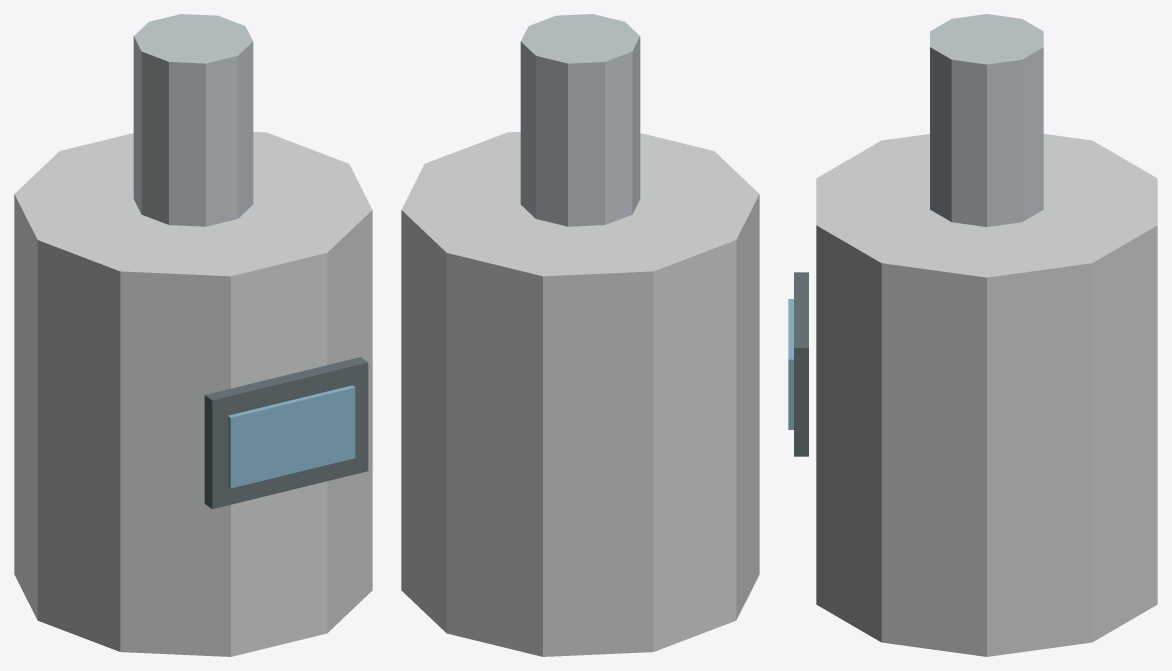
Rendered from boiler.glb.
The picture shows the model from 3 angles, left to right: view 1: azimuth 30°, elevation 25°; view 2: azimuth 150°, elevation 25°; view 3: azimuth 270°, elevation 25°; orthographic projection.
Size of the model in its own units: 0.6 by 1 by 0.6173.
